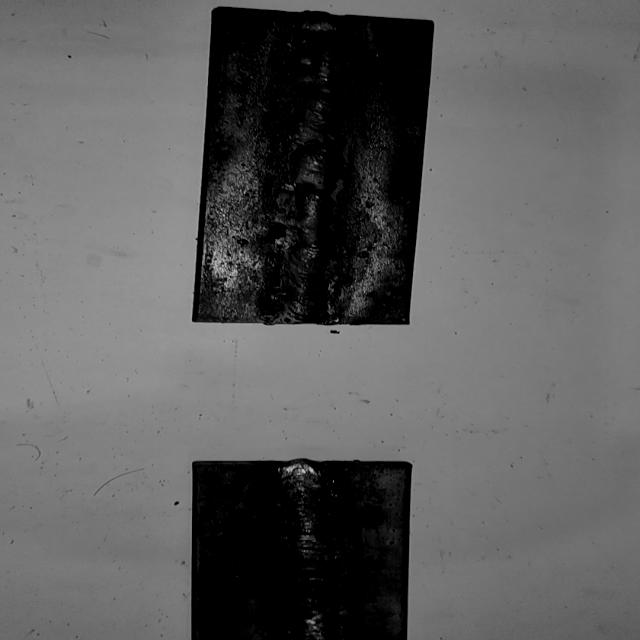Bad Weld: (280, 17, 354, 318)
Defect: (286, 15, 353, 106), (280, 177, 344, 258)
Good Weld: (279, 467, 339, 640)
